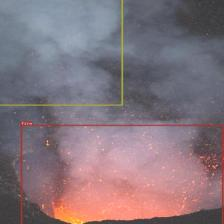fire: (21, 124, 223, 224)
smoke: (0, 0, 122, 105)
